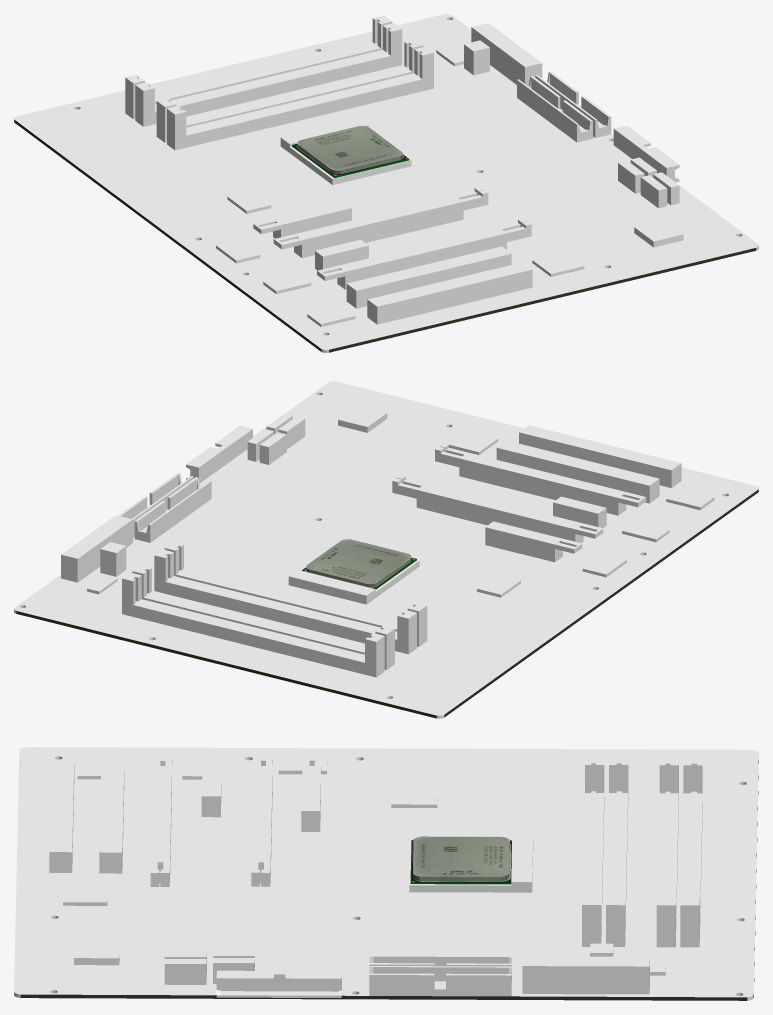
Rendered from motherATX.fbx.
3 renders of one model, top to bottom at view 1: azimuth 30°, elevation 25°; view 2: azimuth 150°, elevation 25°; view 3: azimuth 270°, elevation 25°, orthographic. The views are drawn at different scales.
Visible parts, largest first — view 1: mobo1, pci1, CPU1, pci2; view 2: mobo1, pci2, pci1, CPU1; view 3: mobo1, CPU1, pci2, pci1.
Part boxes in pixels (bbox=[...]): mobo1: bbox=[14, 14, 758, 352]; pci1: bbox=[367, 262, 532, 324]; CPU1: bbox=[292, 126, 409, 178]; pci2: bbox=[346, 246, 511, 308]; mobo1: bbox=[14, 381, 758, 718]; pci2: bbox=[496, 440, 659, 503]; pci1: bbox=[519, 425, 681, 487]; CPU1: bbox=[302, 539, 416, 589]; mobo1: bbox=[14, 747, 758, 1000]; CPU1: bbox=[410, 836, 511, 884]; pci2: bbox=[99, 764, 124, 873]; pci1: bbox=[49, 764, 74, 872].
Size of the model in its own units: 0.2447 by 0.0206 by 0.307.
Materials: 9 (5 with a texture image).
